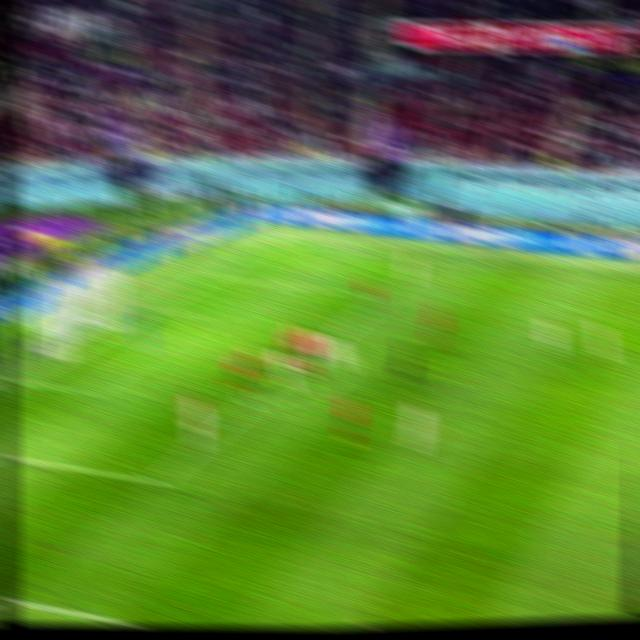bigarea_bottom_inner: (142, 468, 169, 494)
bigarea_top_inner: (371, 290, 394, 308)
bigarea_top_outter: (201, 269, 220, 285)
bottom_arc_area_intersection: (239, 395, 262, 417)
corner: (262, 238, 282, 248)
smallarea_bottom_inner: (76, 379, 100, 403)
smallarea_bottom_outter: (7, 370, 29, 394)
smallarea_top_inner: (198, 309, 219, 328)
smallarea_top_outter: (143, 303, 158, 315)
